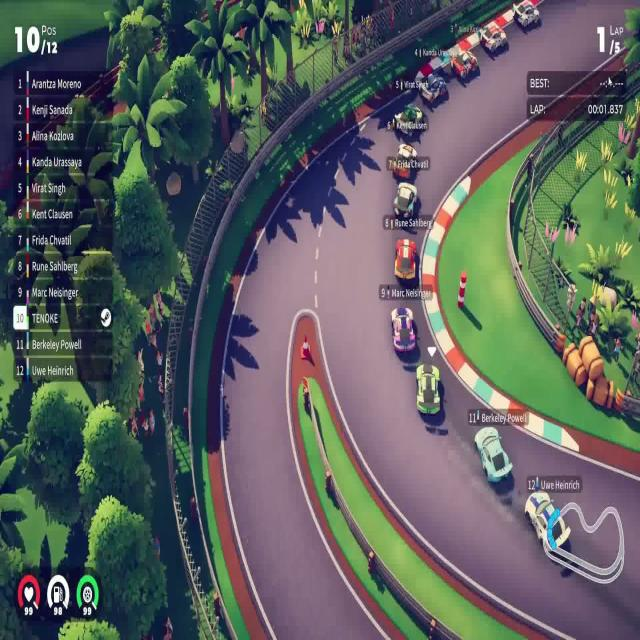car: (523, 489, 571, 560), (473, 425, 513, 485), (415, 362, 441, 417), (390, 306, 416, 354), (392, 102, 427, 136), (392, 180, 418, 223), (389, 142, 417, 180), (478, 19, 507, 54), (394, 237, 416, 283), (416, 72, 447, 104), (450, 49, 478, 80), (512, 0, 540, 30)
